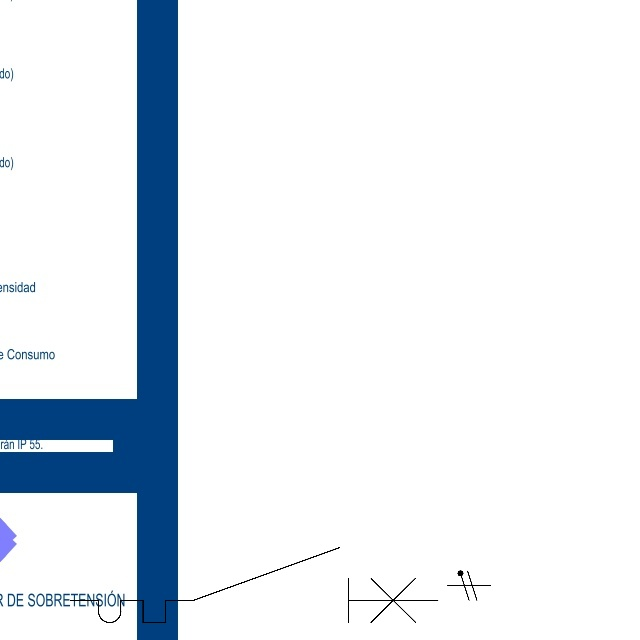interruptor_termomagnetico: (61, 538, 448, 632)
